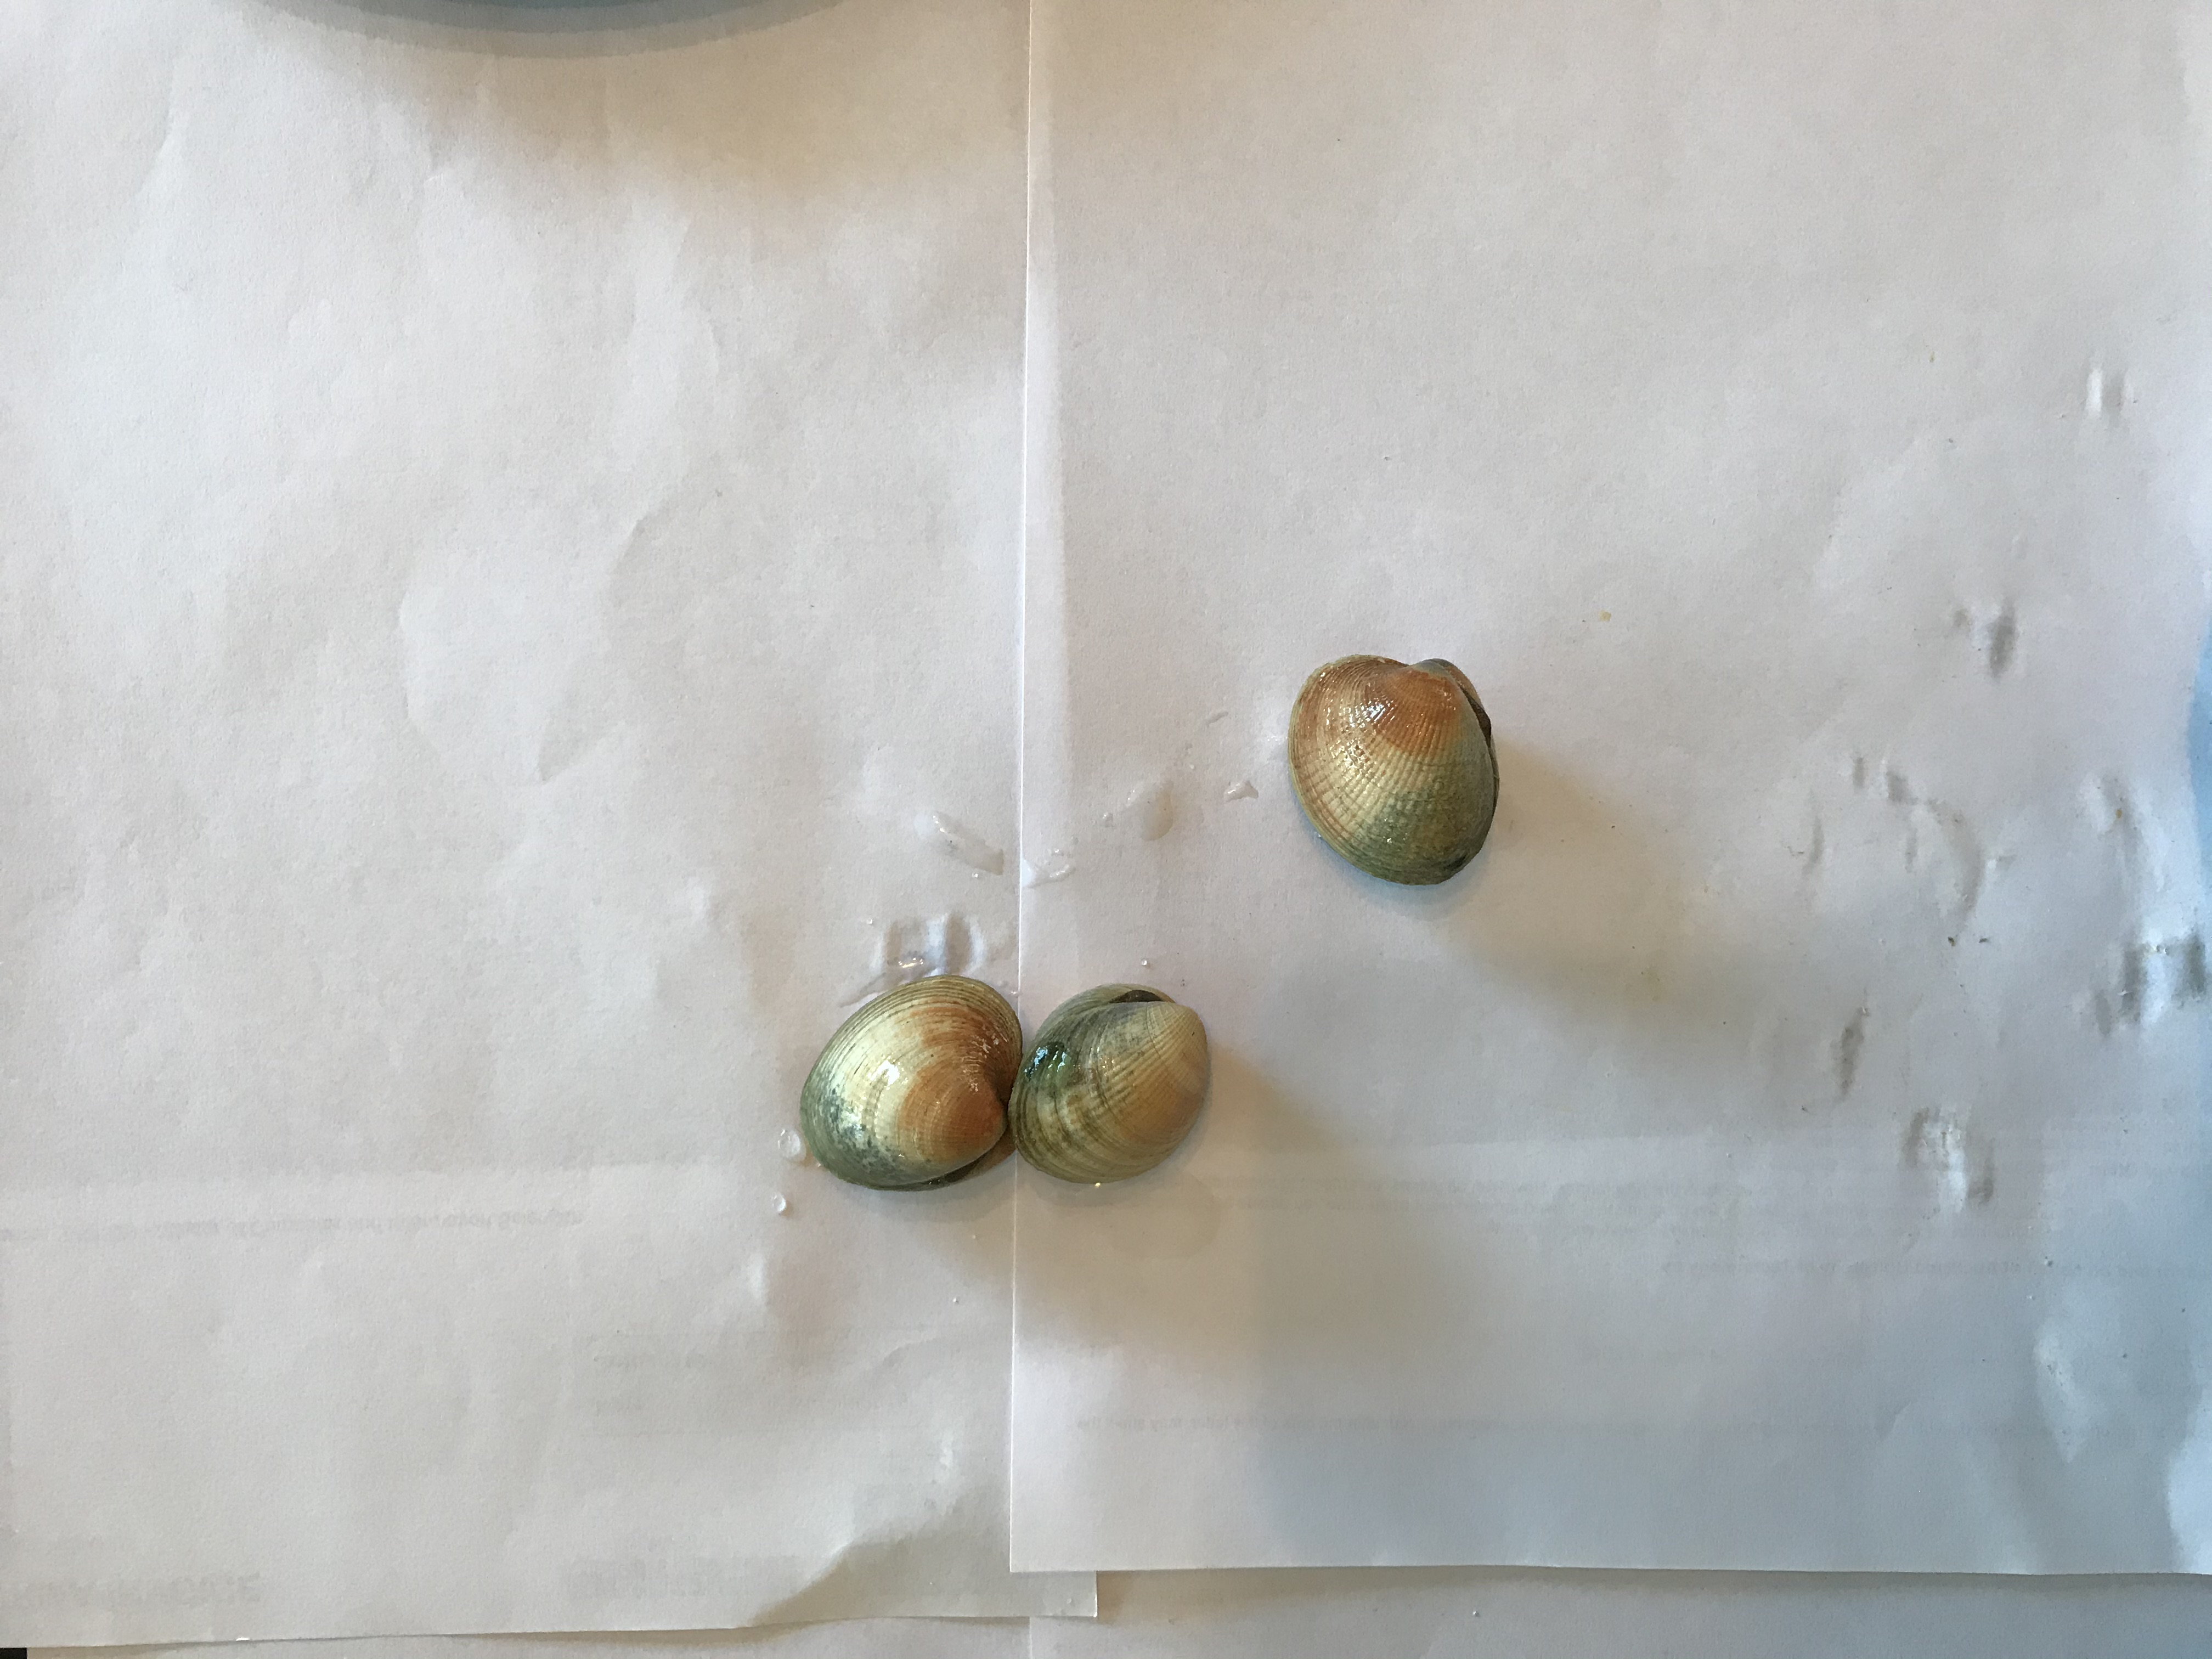cockle: (1284, 652, 1505, 892), (794, 971, 1022, 1202), (1007, 983, 1216, 1187)
